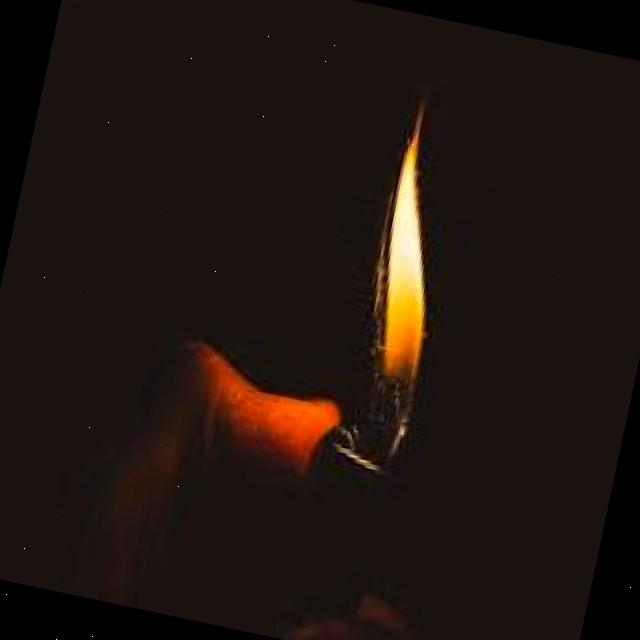fire: (334, 108, 470, 470)
